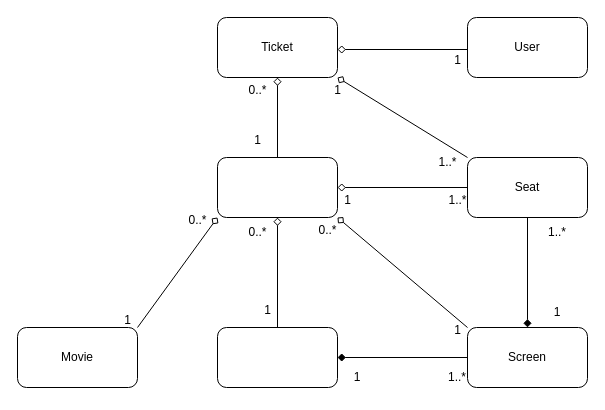
The diagram is 605 pixels wide and 410 high, and some of its shapes have lost their labels. Each missing label, with the box of its shape:
Cinema: (216, 326, 338, 388)
Show: (216, 156, 338, 218)
